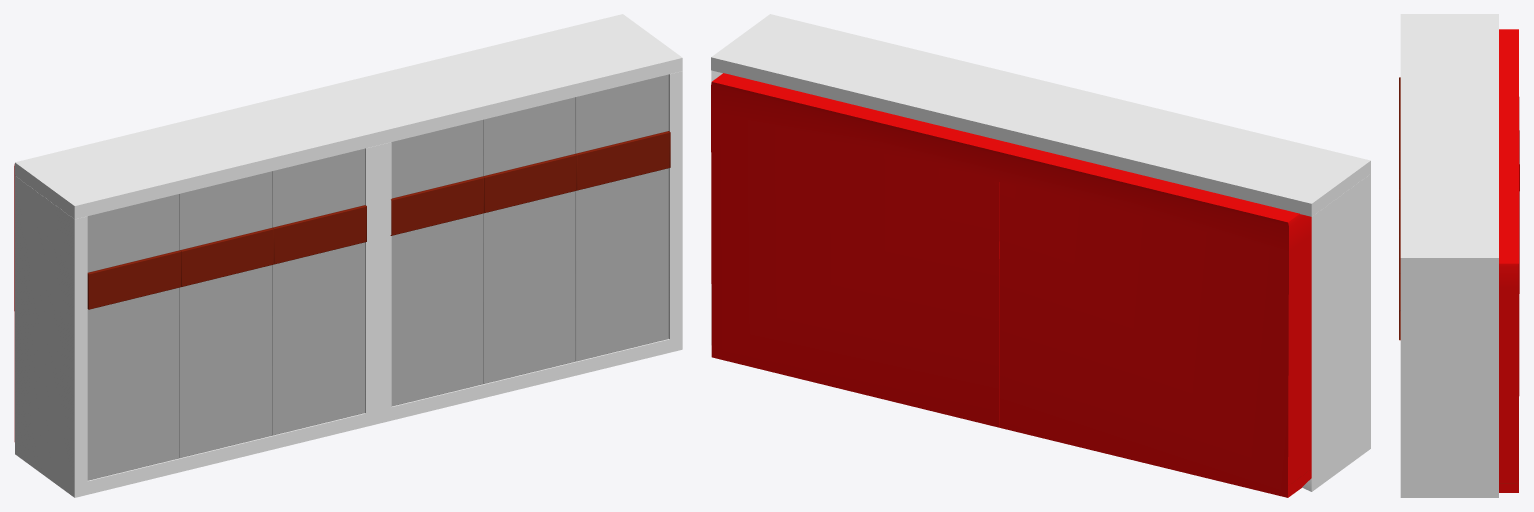
Rendered from Shop_Fashion_short.FBX.
3 renders of one model, left to right at view 1: azimuth 30°, elevation 25°; view 2: azimuth 150°, elevation 25°; view 3: azimuth 270°, elevation 25°, orthographic. The views are drawn at different scales.
Parts seen in each view (by area): view 1: vm_v3_067_Glass, vm_v3_067_mall_shop; view 2: vm_v3_067_mall_shop; view 3: vm_v3_067_mall_shop.
Part boxes in pixels (box(x1,y1,x2,y2)): vm_v3_067_Glass: box(87, 74, 668, 480); vm_v3_067_mall_shop: box(14, 14, 682, 497); vm_v3_067_mall_shop: box(711, 14, 1370, 497); vm_v3_067_mall_shop: box(1399, 14, 1519, 497).
Size of the model in its own units: 9.14 by 4.19 by 1.91.
